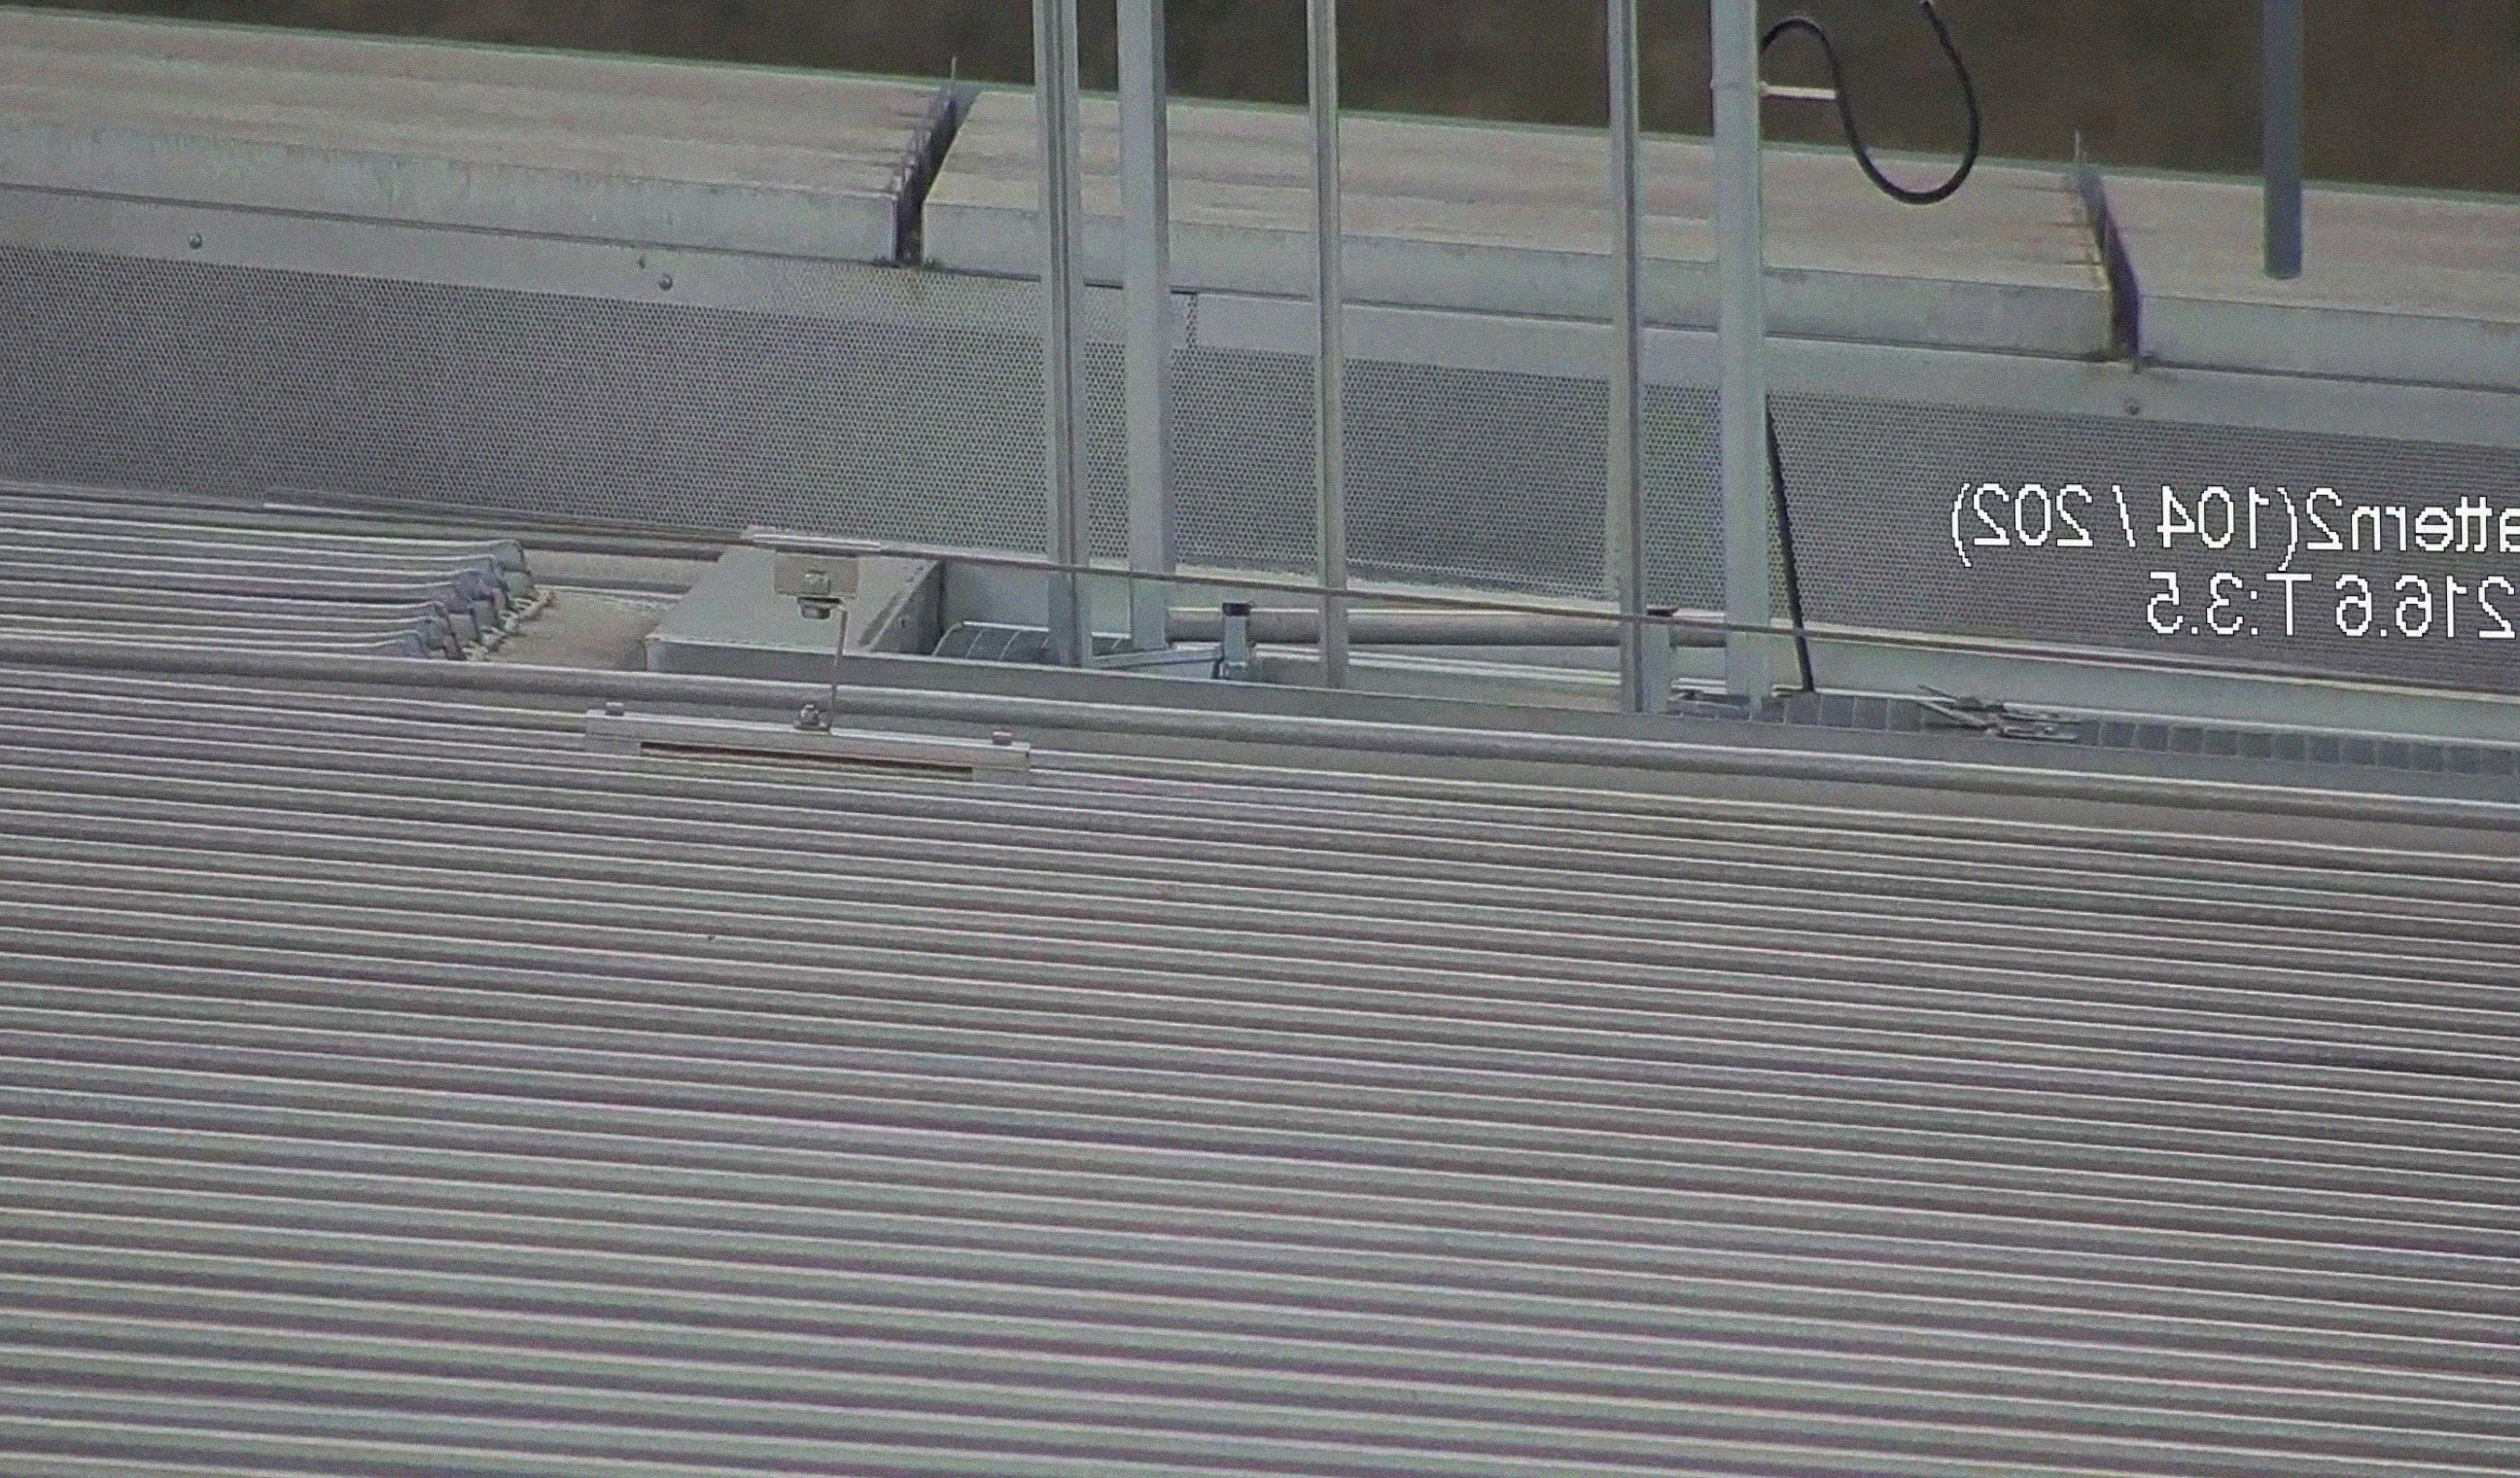Other: (863, 40, 1004, 282)
